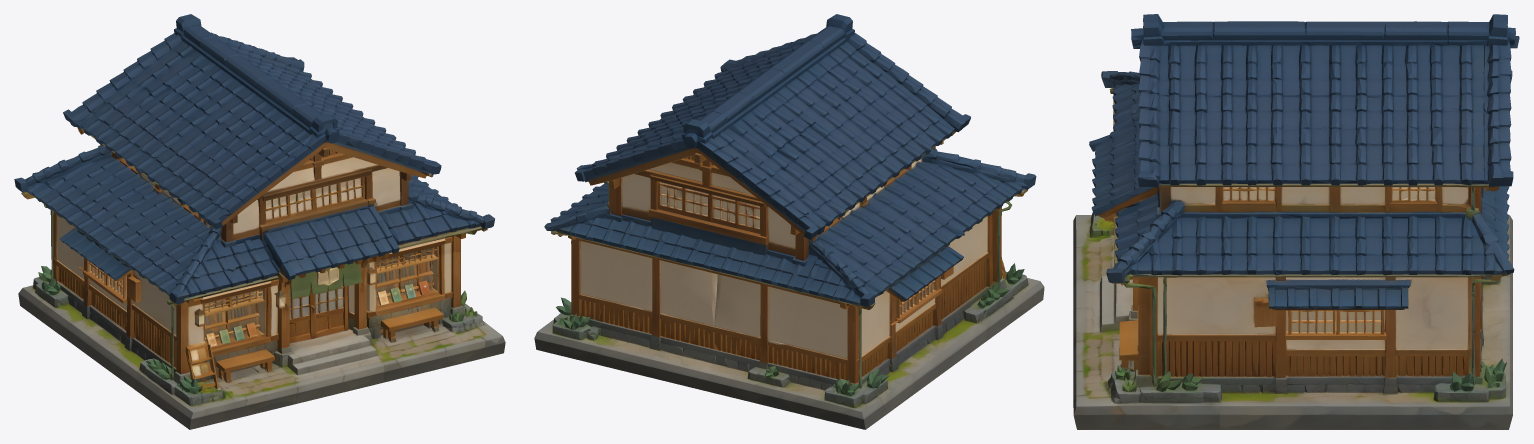
File: source.glb
3 renders of one model, left to right at view 1: azimuth 30°, elevation 25°; view 2: azimuth 150°, elevation 25°; view 3: azimuth 270°, elevation 25°, orthographic. The views are drawn at different scales.
Visible parts, largest first — view 1: model; view 2: model; view 3: model.
Part boxes in pixels (left/top/right/bottom): model: left=14, top=14, right=505, bottom=429; model: left=534, top=14, right=1044, bottom=429; model: left=1073, top=14, right=1519, bottom=429.
Size of the model in its own units: 1.88 by 1.4 by 1.78.
1 material, 1 textured.
